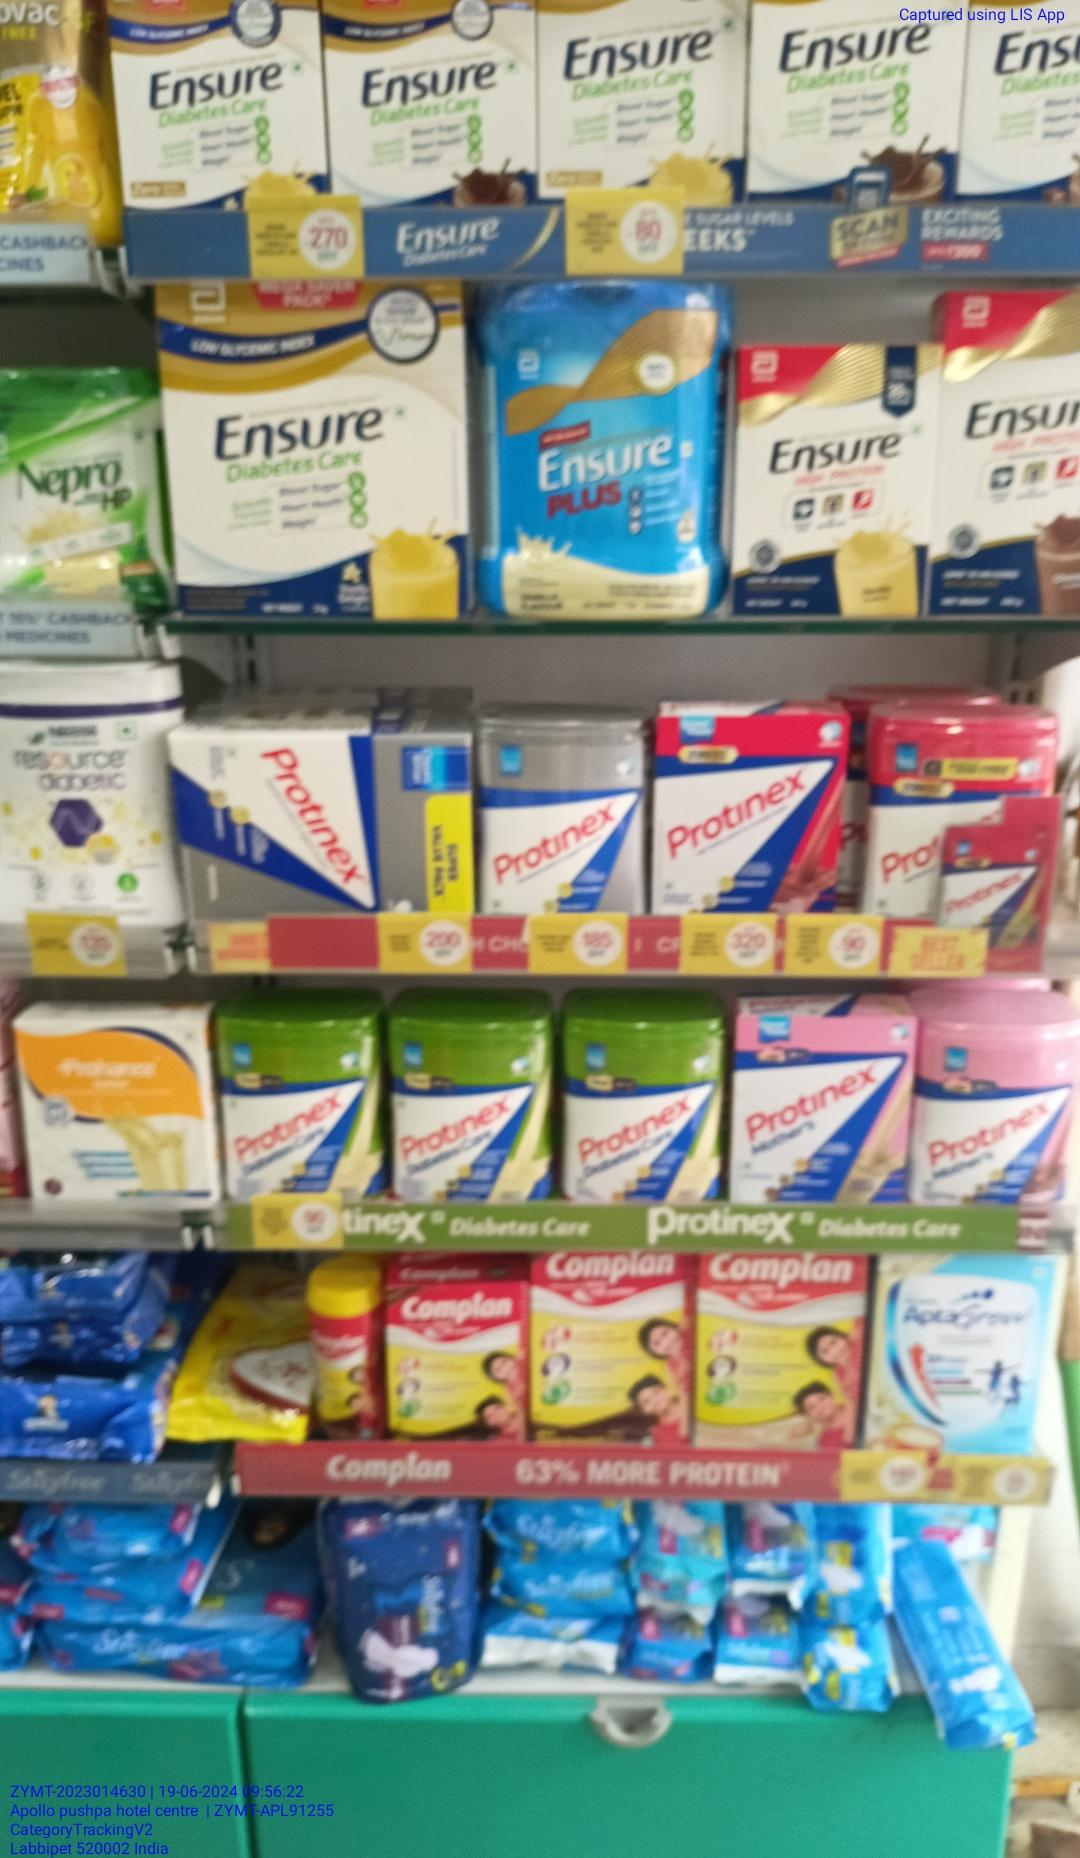COMPLAN_CHOCOLATE_200_GMS_JAR: (309, 1268, 377, 1445)
PROTINEX_ORIGINAL_400_G_JAR: (476, 708, 645, 917)
